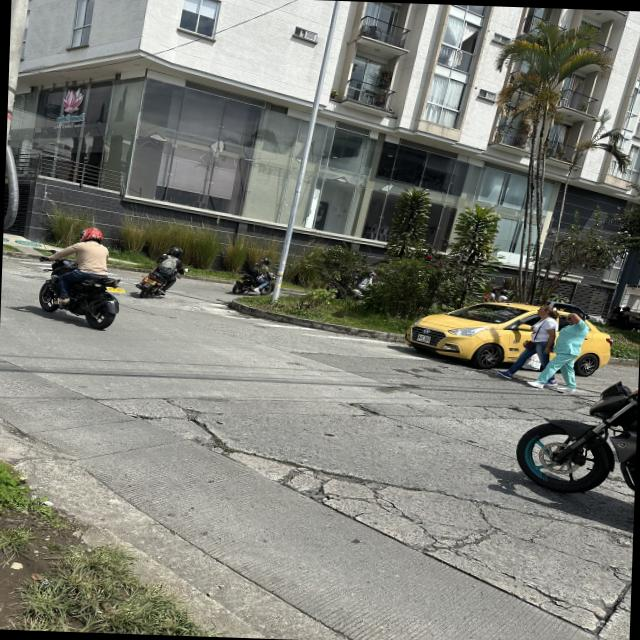number plate: (106, 286, 125, 293)
